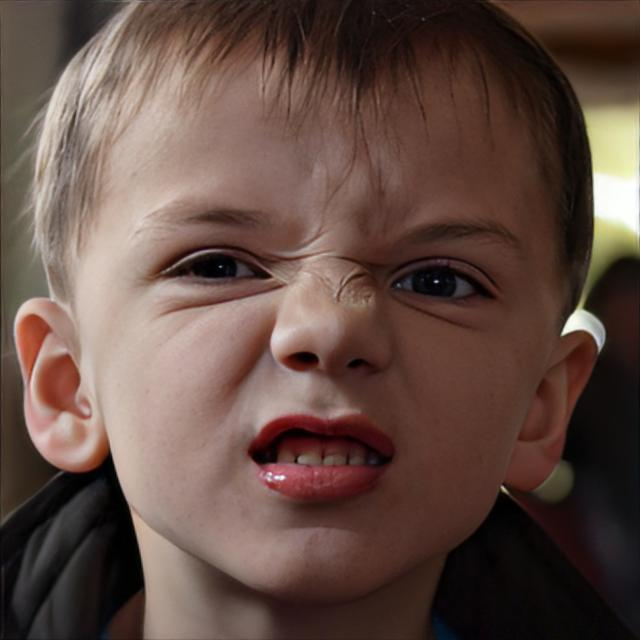disgust: (80, 60, 566, 608)
